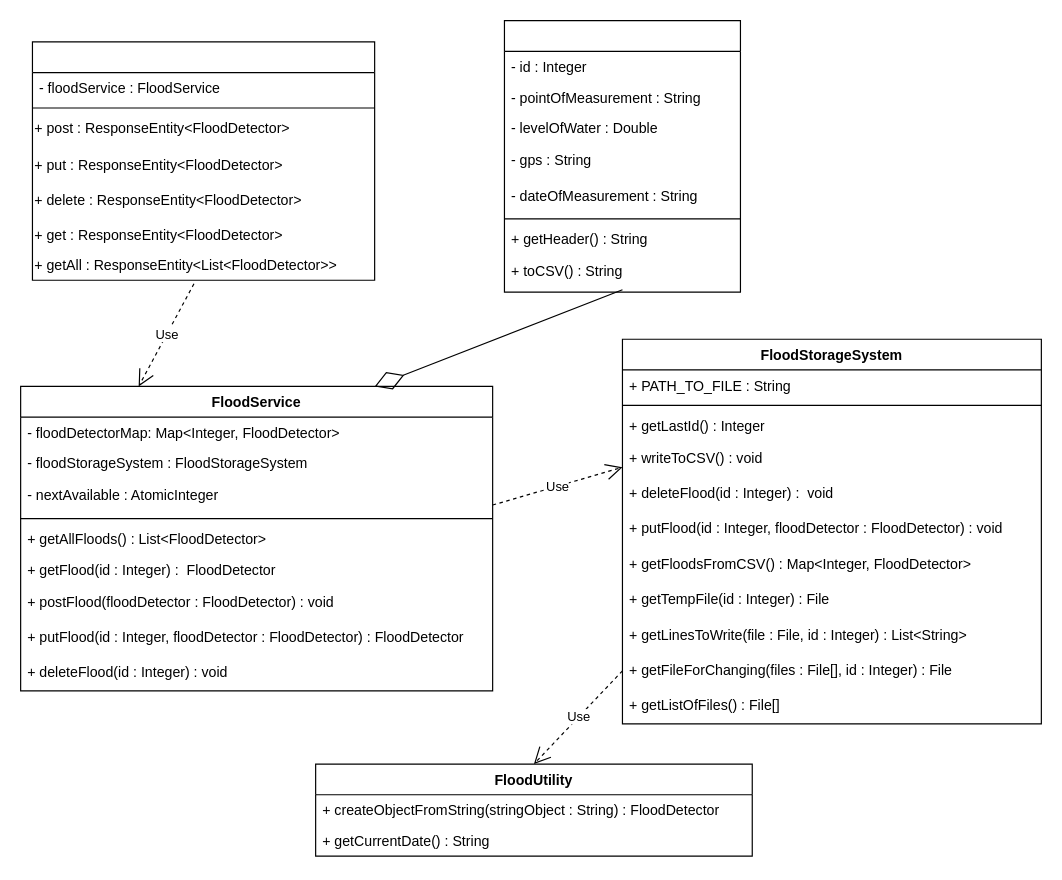
Image size: 1062x880. Some labels were removed from this diagram. Each missing label, with the box of its shape:
FloodController: (31, 41, 375, 280)
FloodDetector: (503, 19, 740, 292)
